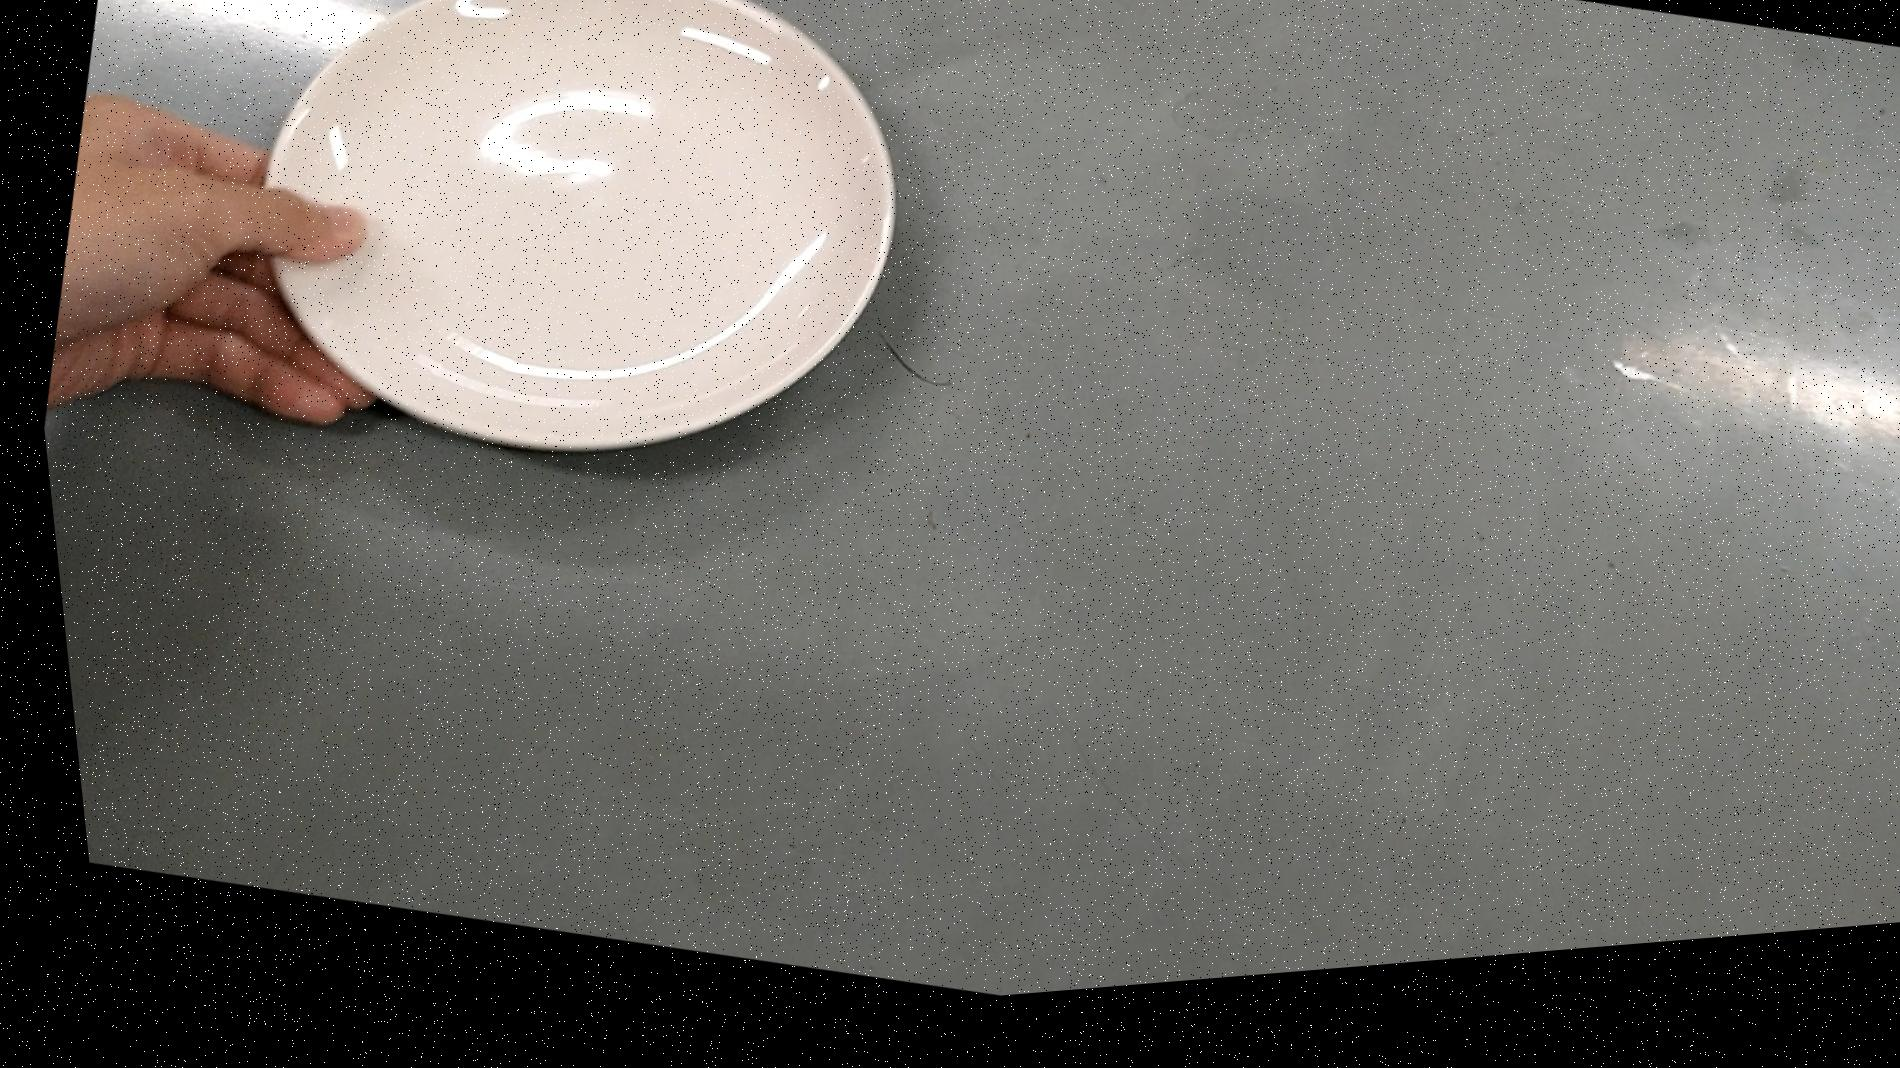plate: (193, 0, 957, 556)
